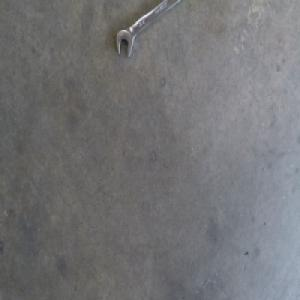Wrench: (115, 0, 177, 56)
